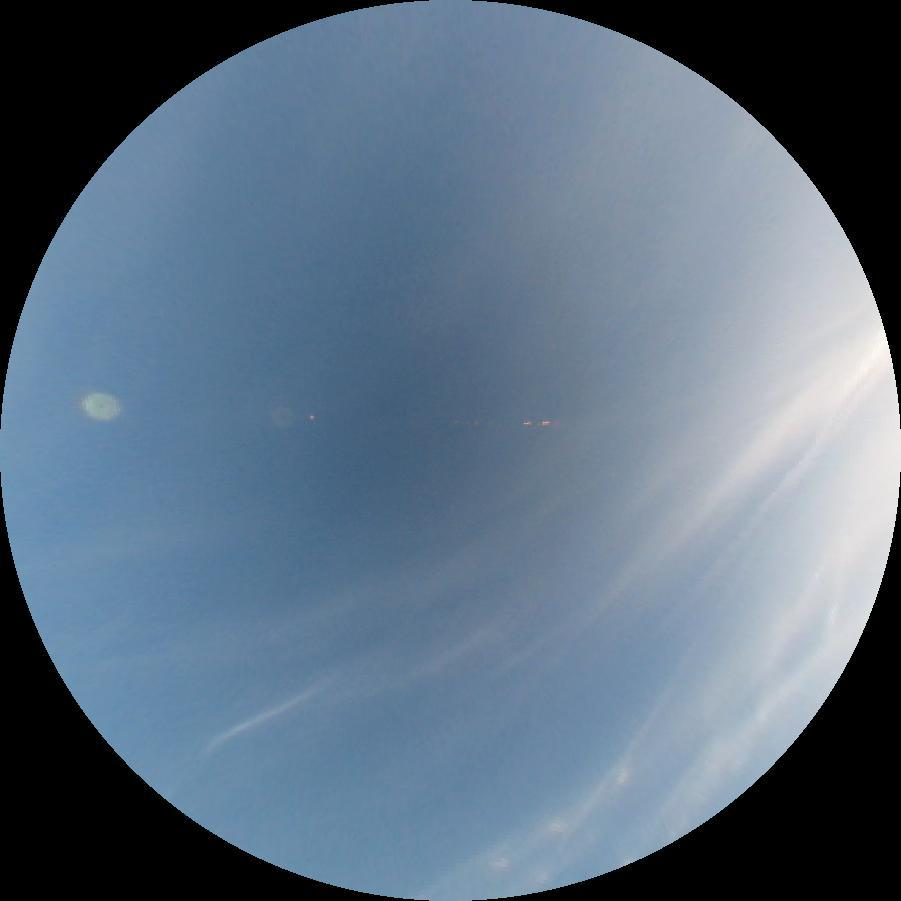contrail old: (642, 395, 859, 648)
